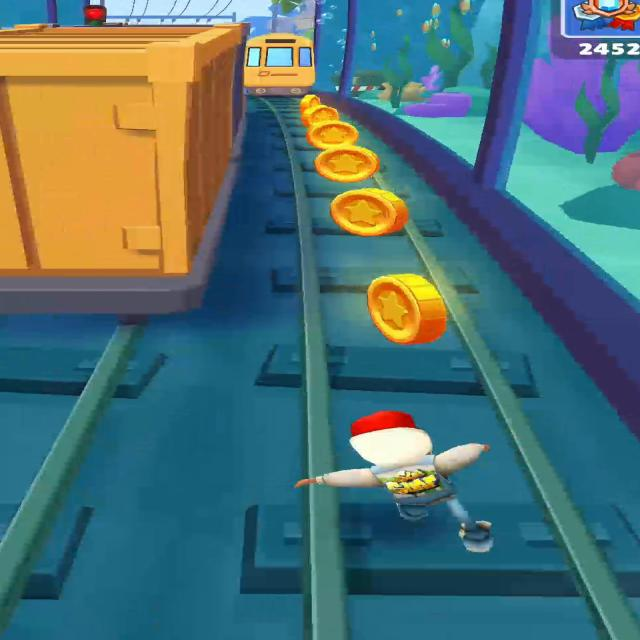train: (0, 24, 246, 313), (244, 34, 315, 96)
